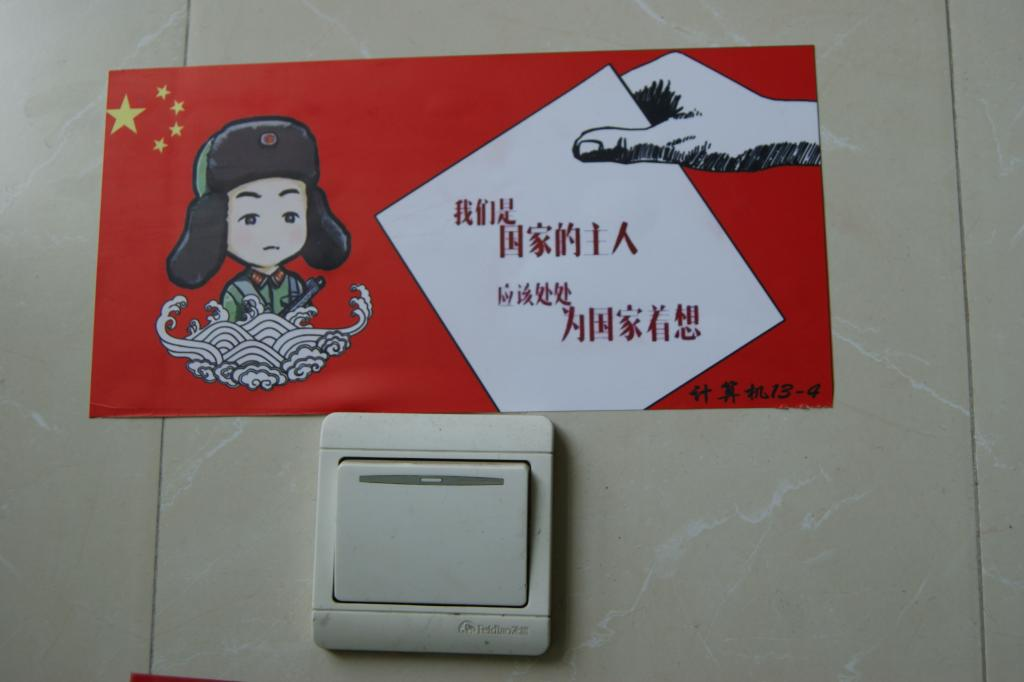bill: (88, 47, 837, 417)
